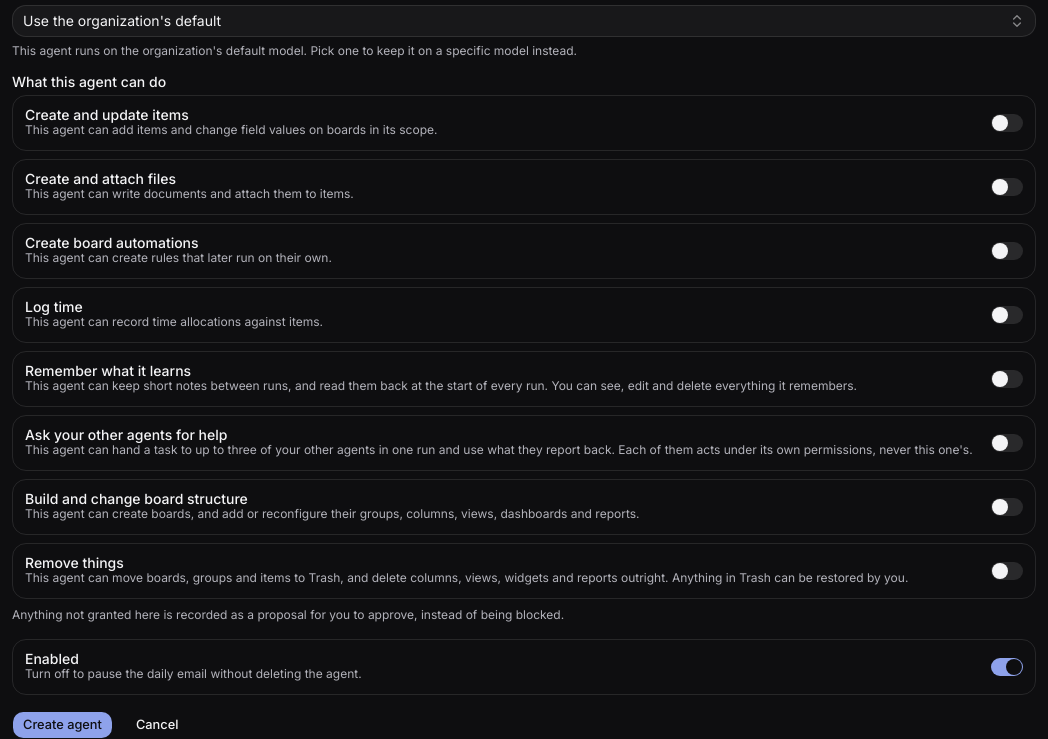
Test case: AgentEditor · model pin › renders a server failure inline instead of swallowing it
(page scrolled)
Click the button "Create agent" at (62, 725), box [12,711,113,738]
(page scrolled)
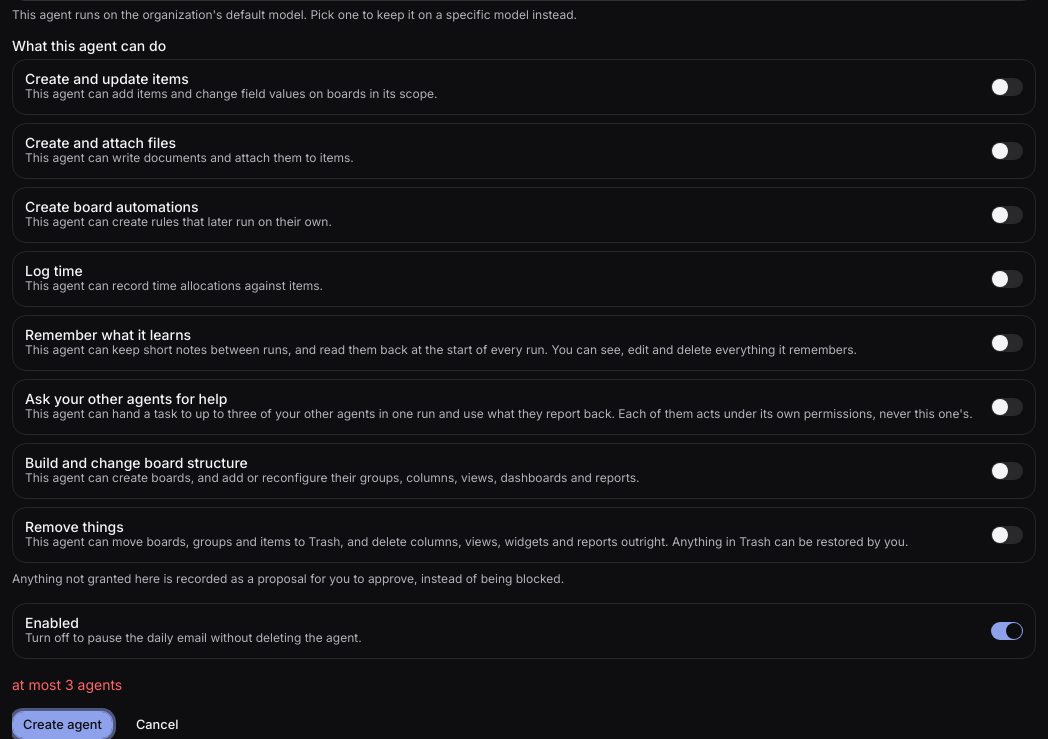
Result: the message reads "at most 3 agents" at [12,676,122,693]
